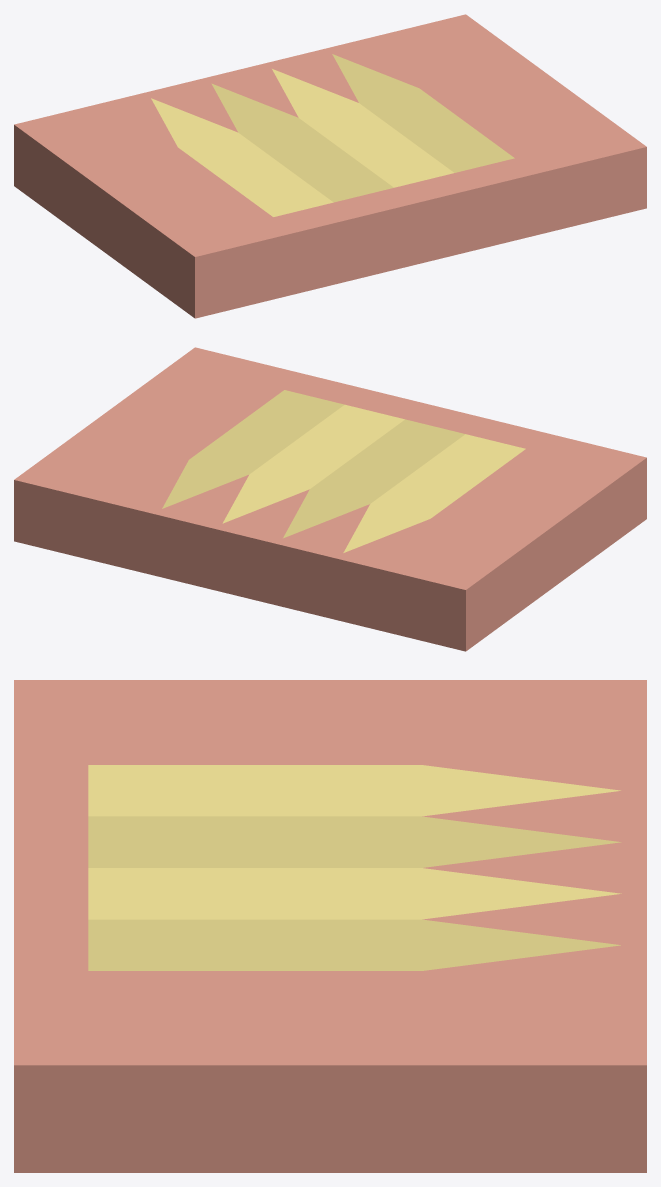
Rendered from AmmoPack.fbx.
3 renders of one model, top to bottom at view 1: azimuth 30°, elevation 25°; view 2: azimuth 150°, elevation 25°; view 3: azimuth 270°, elevation 25°, orthographic. The views are drawn at different scales.
Parts seen in each view (by area): view 1: AmmoPack; view 2: AmmoPack; view 3: AmmoPack.
Part boxes in pixels (box(x1,y1,x2,y2)): AmmoPack: box(14, 14, 646, 318); AmmoPack: box(14, 347, 646, 651); AmmoPack: box(14, 680, 646, 1172).
Size of the model in its own units: 0.1107 by 0.0144 by 0.0768.
